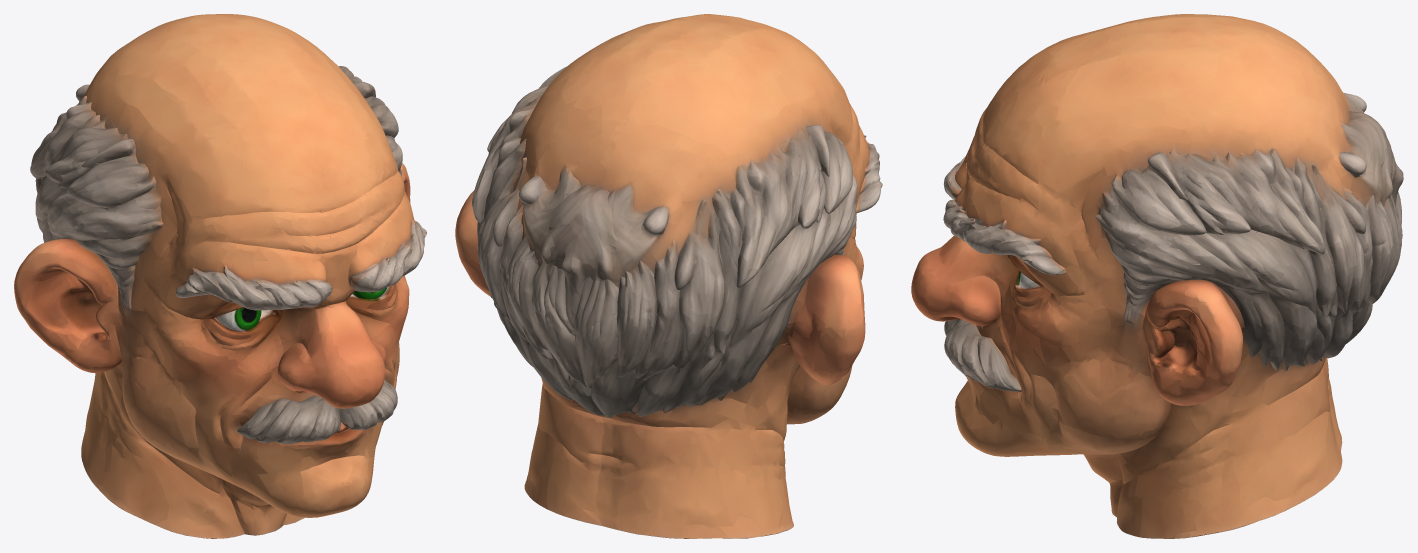
The picture shows the model from 3 angles, left to right: view 1: azimuth 30°, elevation 25°; view 2: azimuth 150°, elevation 25°; view 3: azimuth 270°, elevation 25°; orthographic projection. The views are drawn at different scales.
Bounding box in the file's own units: 1.66 × 1.9 × 1.77.
Materials: 1 (1 with a texture image).
